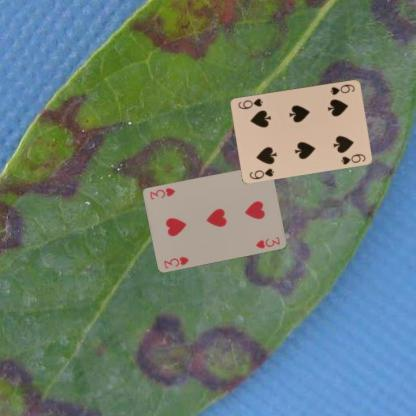3h: (161, 254, 190, 270)
6s: (327, 81, 356, 96), (247, 166, 276, 180)
